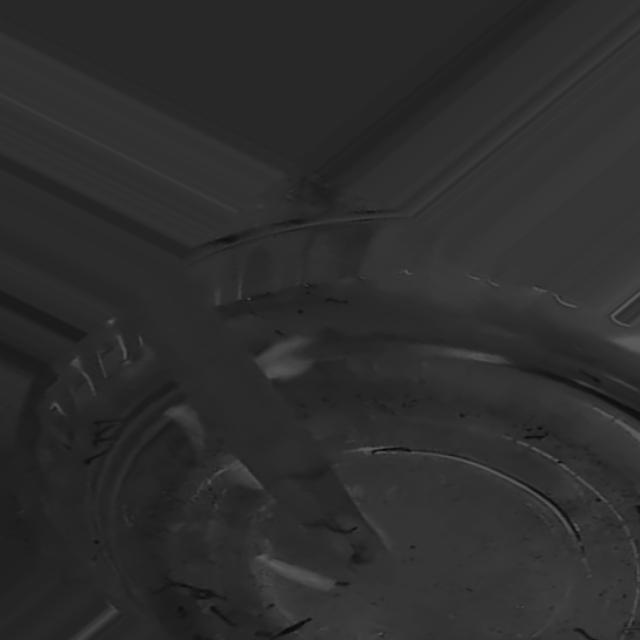larvas: (270, 617, 313, 639), (326, 518, 360, 538), (370, 443, 410, 458), (520, 426, 548, 445), (212, 605, 232, 625), (85, 451, 113, 464), (175, 579, 204, 591), (326, 294, 346, 308), (96, 415, 120, 425), (576, 627, 594, 640), (94, 436, 117, 446), (200, 584, 212, 599), (96, 426, 112, 433)
